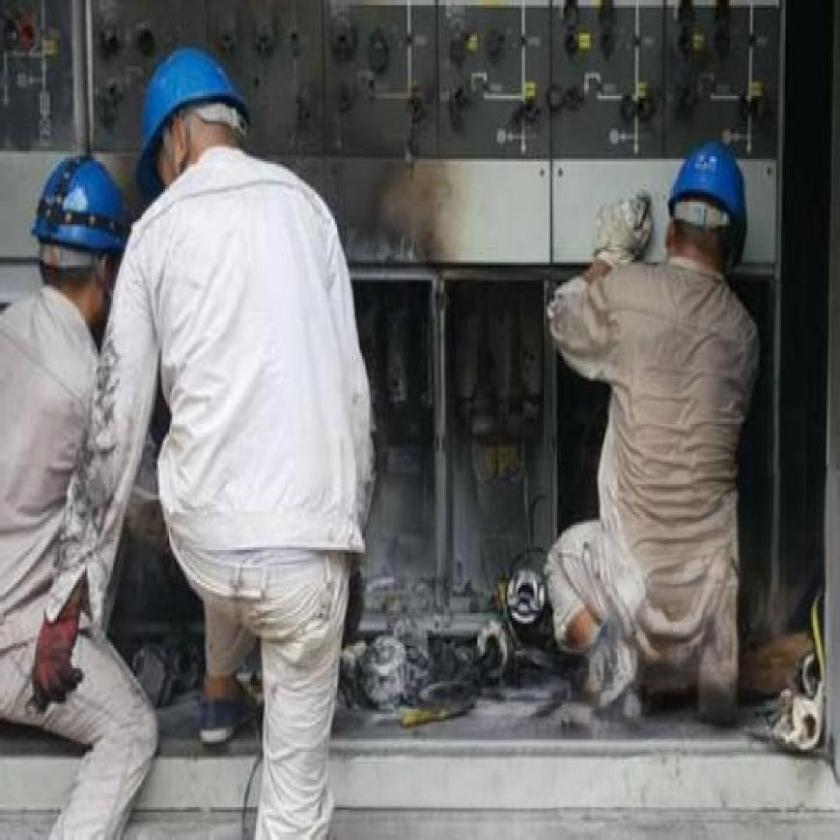Con_casco: (128, 43, 252, 193), (31, 149, 131, 319), (663, 134, 751, 290)
